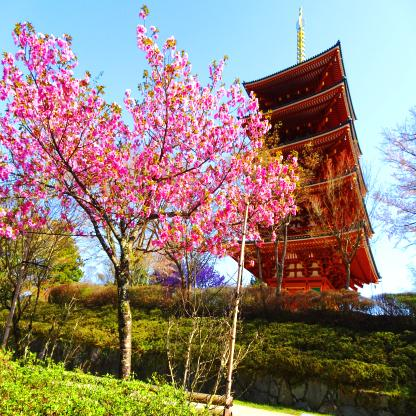YaeSakura: (0, 6, 301, 259), (365, 99, 416, 270)
